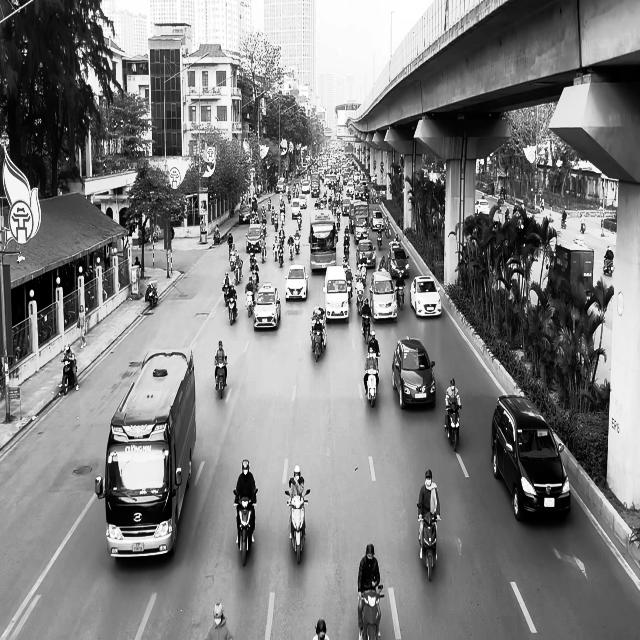car: (490, 394, 571, 522), (391, 336, 436, 409), (323, 265, 349, 323), (369, 270, 398, 322), (409, 275, 442, 318), (252, 283, 280, 330), (284, 264, 308, 301), (245, 224, 264, 253), (474, 198, 490, 216)
motorbike: (233, 487, 258, 566), (285, 488, 310, 564), (417, 504, 439, 581), (358, 584, 384, 639), (364, 353, 380, 407), (444, 404, 461, 452), (58, 358, 78, 396), (214, 356, 227, 399), (145, 280, 158, 308), (227, 292, 237, 324), (603, 253, 614, 276)
truck: (95, 348, 196, 560)
